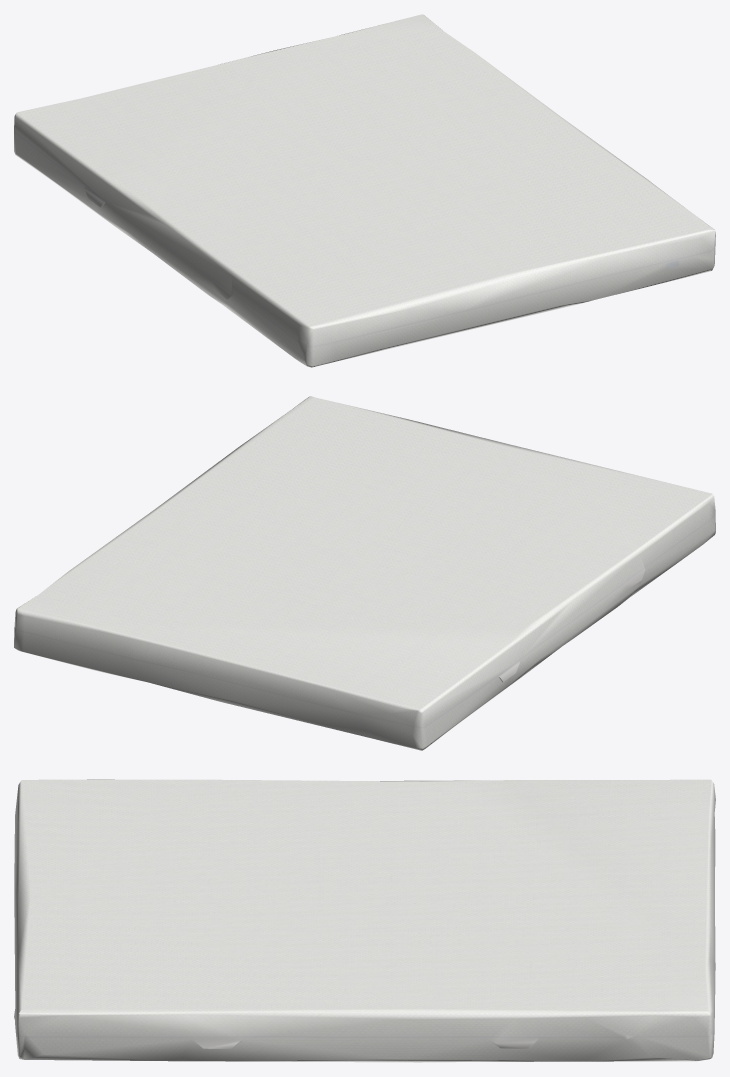
The model's file is abygda-foam-mattress-firm-white-50481469.glb.
The picture shows the model from 3 angles, top to bottom: view 1: azimuth 30°, elevation 25°; view 2: azimuth 150°, elevation 25°; view 3: azimuth 270°, elevation 25°; orthographic projection. The views are drawn at different scales.
Visible parts, largest first — view 1: model; view 2: model; view 3: model.
Part boxes in pixels (bbox=[...]): model: bbox=[14, 14, 715, 367]; model: bbox=[14, 396, 715, 750]; model: bbox=[14, 779, 715, 1062].
Size of the model in its own units: 1.61 by 0.1627 by 2.
Materials: 1 (1 with a texture image).
